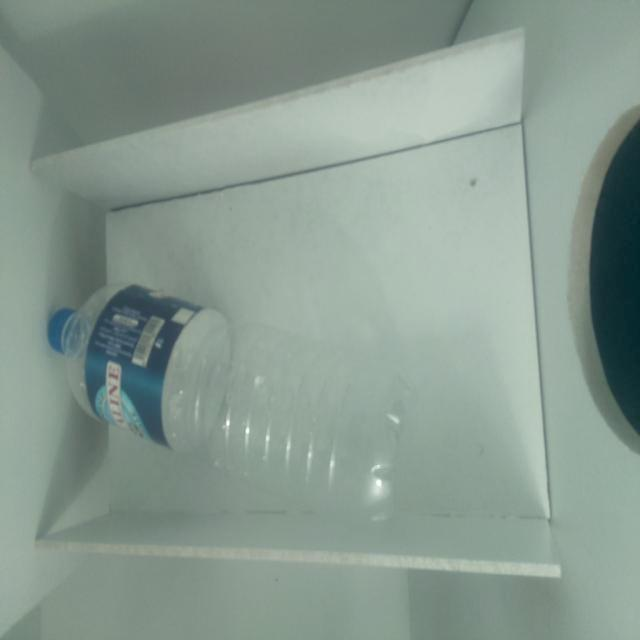bottle: (49, 283, 424, 528)
